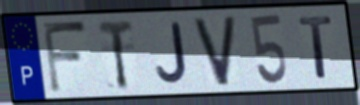5: (248, 13, 289, 86)
F: (40, 20, 90, 96)
J: (153, 20, 190, 86)
T: (96, 17, 136, 92), (296, 14, 336, 82)
V: (191, 14, 238, 89)
